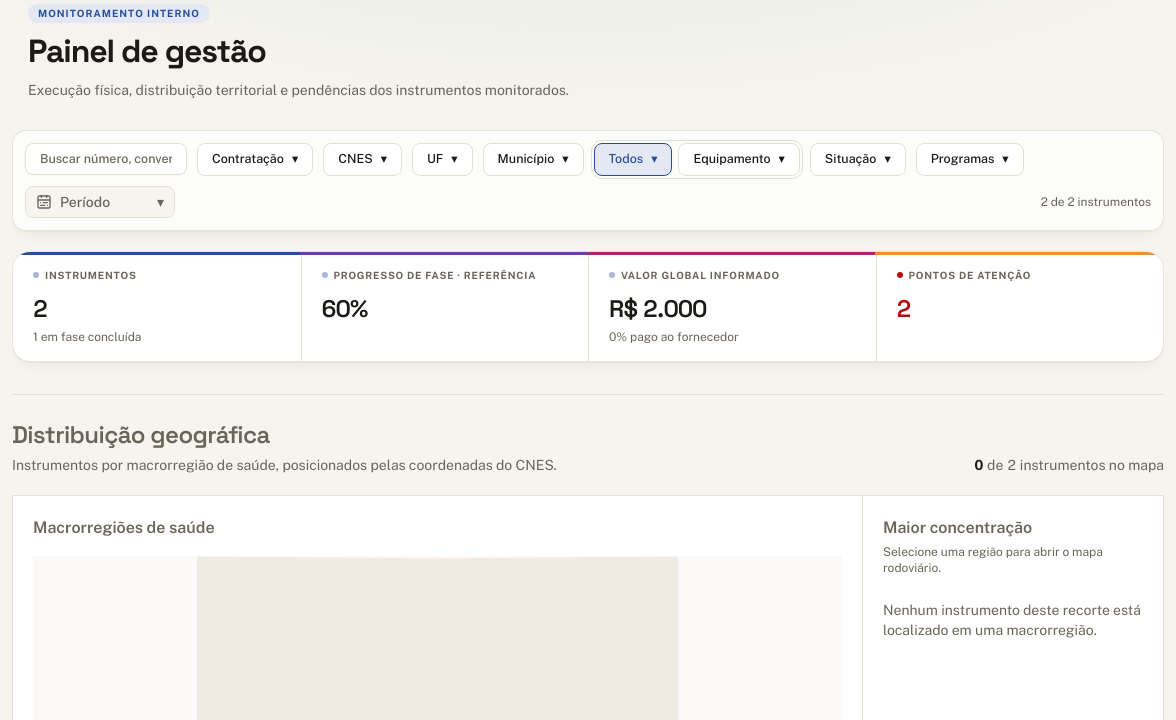
Painel de gestão com composição e HTTP reais simulados › sincroniza totais, panorama e pendências ao filtrar e atualizar instrumentos
Check: the text "2" below "Pontos de atenção" is shown, box [896,292,911,324]
Click the button "UF ▾".
click(442, 159)  # box [412,143,473,176]
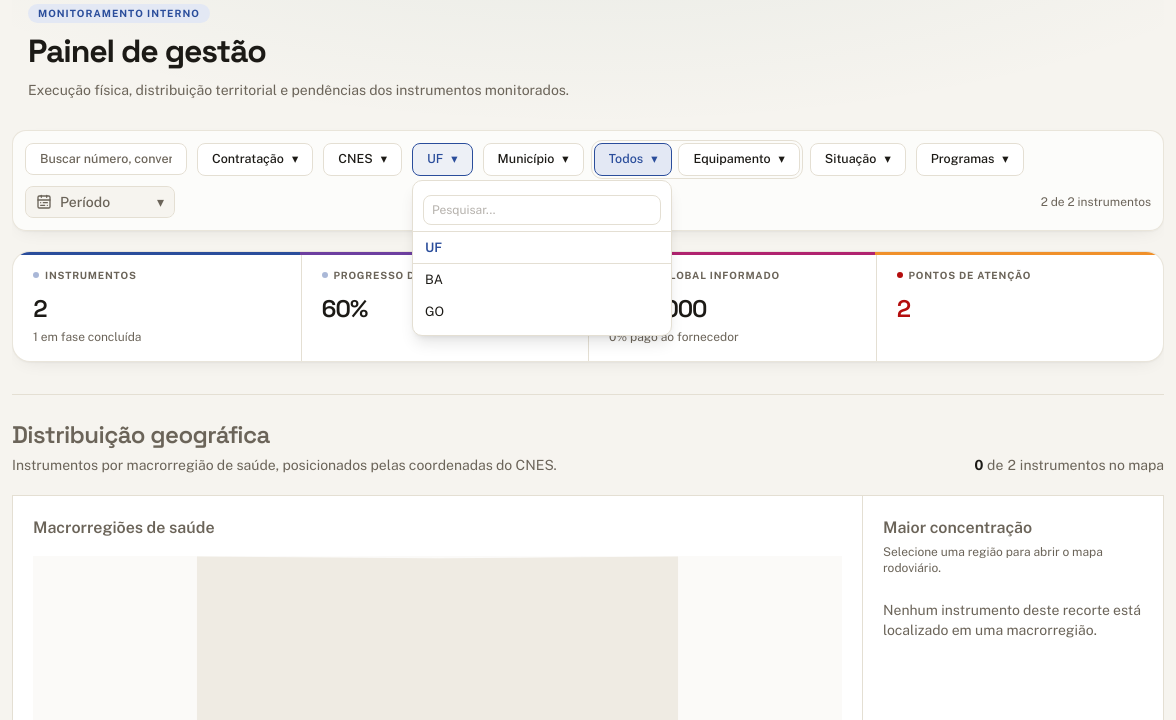
Click the option "BA".
click(542, 280)  # box [413,264,671,296]
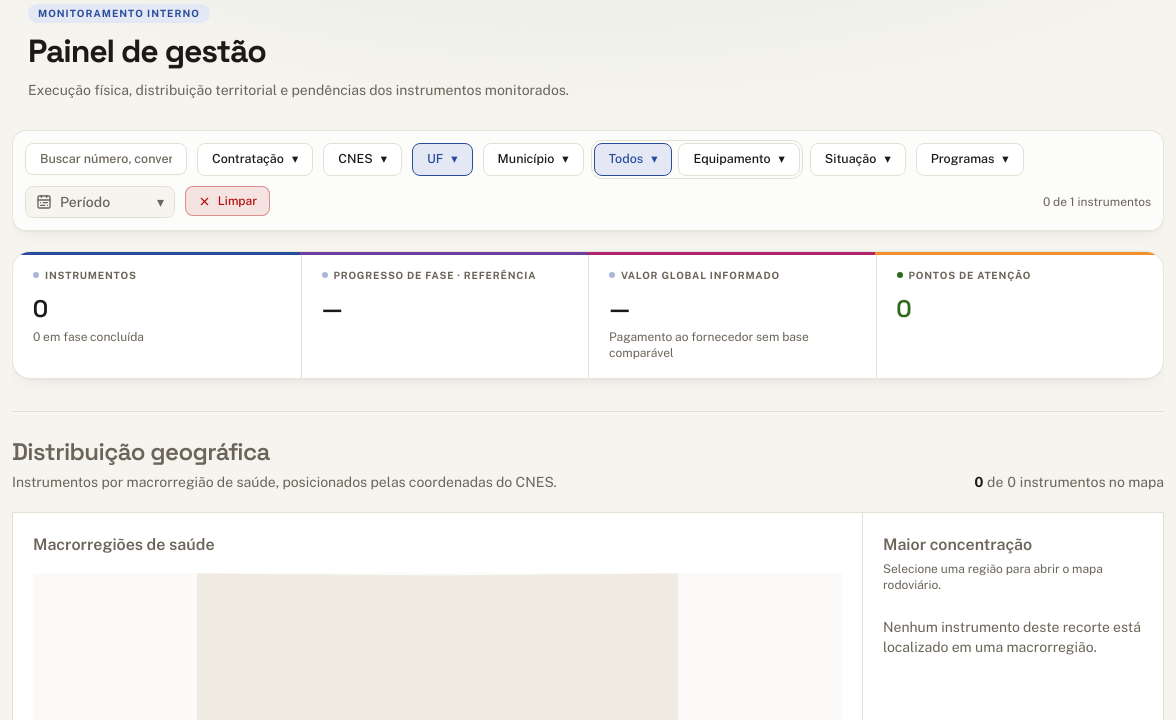
Check: the text "0 de 1 instrumentos" is shown, box [1043,194,1151,208]
Check: the 1st text "0" is shown, box [33,292,47,324]
Check: the text "—" below "Valor global informado" is shown, box [609,292,630,324]
